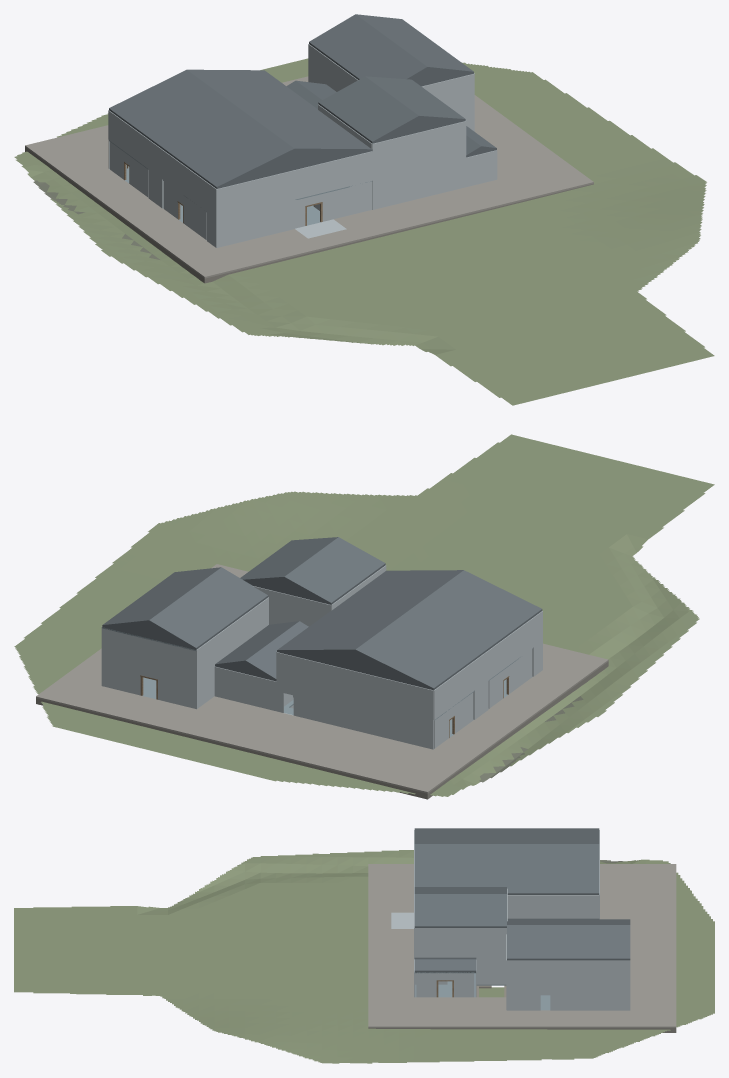
The model's file is constructed-courts.glb.
3 views of the same model, one above another, from view 1: azimuth 30°, elevation 25°; view 2: azimuth 150°, elevation 25°; view 3: azimuth 270°, elevation 25° (orthographic). The views are drawn at different scales.
Parts seen in each view (by area): view 1: Saved editor macroterrain SCHOOL, teaching roof west, SCHOOL south school forecourt pavement region0, teaching roof east, SCHOOL west teaching-room court pavement region0, gym roof west, Wall assembly S, assembly roof west, SCHOOL east receiving and gym service court pavement region0, SCHOOL north school playground pavement region0, Wall library S, Wall class-a-store S (+15 smaller); view 2: Saved editor macroterrain SCHOOL, SCHOOL north school playground pavement region0, teaching roof west, teaching roof east, gym roof west, SCHOOL west teaching-room court pavement region0, assembly roof west, Wall science N, Wall class-b N, gym roof east, SCHOOL court-door gym N pier0, SCHOOL court-door gym N end (+19 smaller); view 3: Saved editor macroterrain SCHOOL, SCHOOL north school playground pavement region0, teaching roof east, SCHOOL south school forecourt pavement region0, Flat route shell Wall gym E, SCHOOL east receiving and gym service court pavement region0, gym roof east, assembly roof east, teaching roof west, Wall assembly E, Wall wash-a E, Wall wash-b E (+7 smaller).
Part boxes in pixels (x1,y1,x2,y2): Saved editor macroterrain SCHOOL: [14, 58, 714, 405]; teaching roof west: [109, 69, 294, 188]; SCHOOL south school forecourt pavement region0: [178, 162, 593, 278]; teaching roof east: [187, 69, 372, 150]; SCHOOL west teaching-room court pavement region0: [70, 169, 215, 258]; gym roof west: [309, 14, 427, 79]; Wall assembly S: [372, 121, 465, 180]; assembly roof west: [318, 76, 418, 143]; SCHOOL east receiving and gym service court pavement region0: [474, 95, 566, 179]; SCHOOL north school playground pavement region0: [25, 76, 308, 179]; Wall library S: [216, 170, 294, 218]; Wall class-a-store S: [216, 200, 294, 247]; Saved editor macroterrain SCHOOL: [14, 434, 714, 796]; SCHOOL north school playground pavement region0: [36, 663, 472, 793]; teaching roof west: [355, 570, 542, 689]; teaching roof east: [277, 570, 463, 651]; gym roof west: [149, 567, 268, 649]; SCHOOL west teaching-room court pavement region0: [434, 670, 581, 760]; assembly roof west: [284, 537, 385, 604]; Wall science N: [355, 701, 434, 749]; Wall class-b N: [355, 671, 433, 719]; gym roof east: [102, 567, 220, 626]; SCHOOL court-door gym N pier0: [158, 641, 196, 708]; SCHOOL court-door gym N end: [102, 628, 140, 695]; Saved editor macroterrain SCHOOL: [14, 850, 714, 1063]; SCHOOL north school playground pavement region0: [599, 864, 676, 1027]; teaching roof east: [414, 844, 599, 894]; SCHOOL south school forecourt pavement region0: [368, 864, 414, 1027]; Flat route shell Wall gym E: [507, 960, 630, 1010]; SCHOOL east receiving and gym service court pavement region0: [414, 997, 599, 1027]; gym roof east: [507, 925, 630, 959]; assembly roof east: [414, 894, 506, 927]; teaching roof west: [414, 828, 599, 843]; Wall assembly E: [414, 928, 506, 959]; Wall wash-a E: [561, 895, 599, 918]; Wall wash-b E: [522, 895, 560, 918].
Bounding box in the file's own units: 67 × 13.3 × 91.
30 materials, 18 textured.
